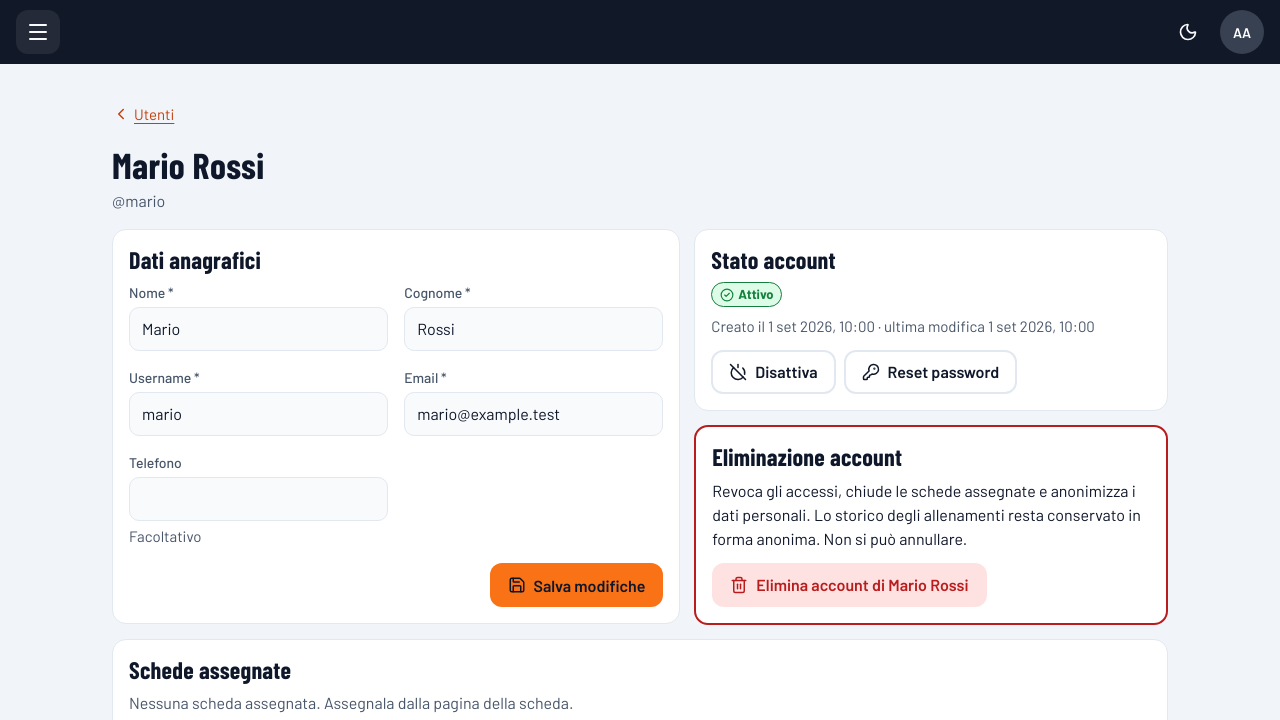
it: user detail › asks confirmation before deactivating and shows the new state
This screenshot has width=1280, height=720.
Click the button "Disattiva".
click(774, 372)  # box [711,350,836,394]
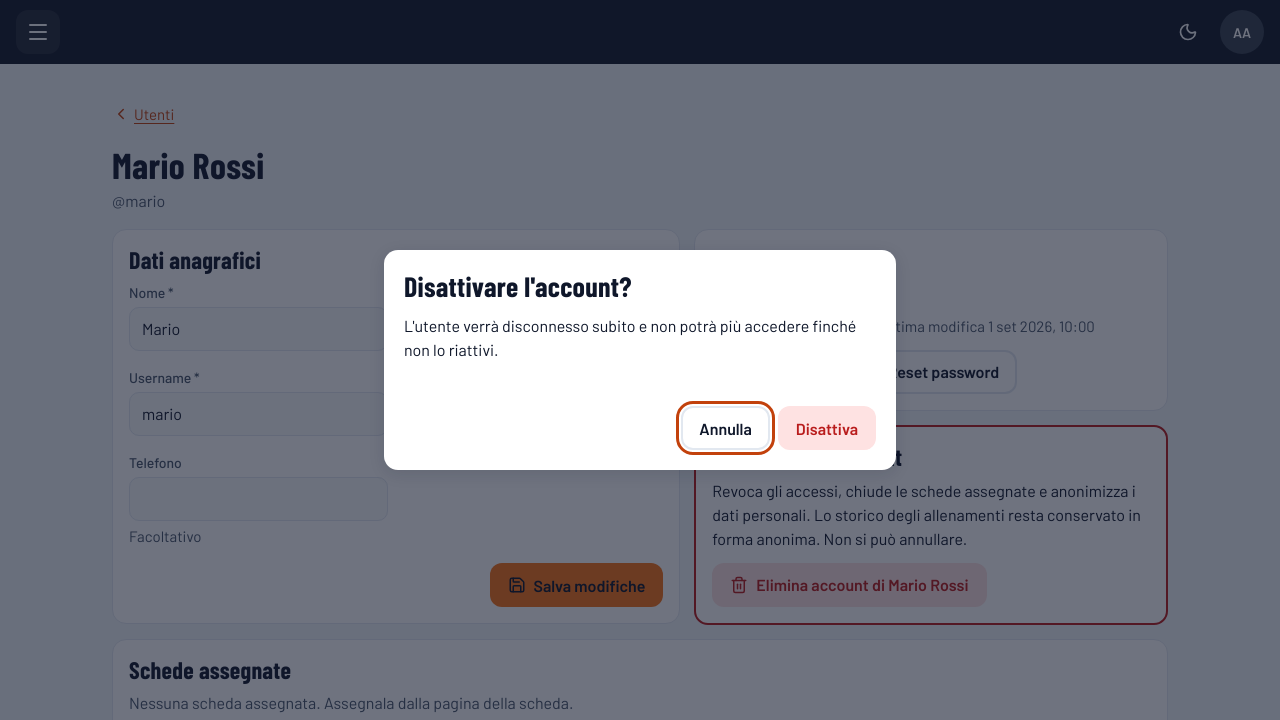
Click the button "Disattiva".
click(827, 428)  # box [778,406,876,450]
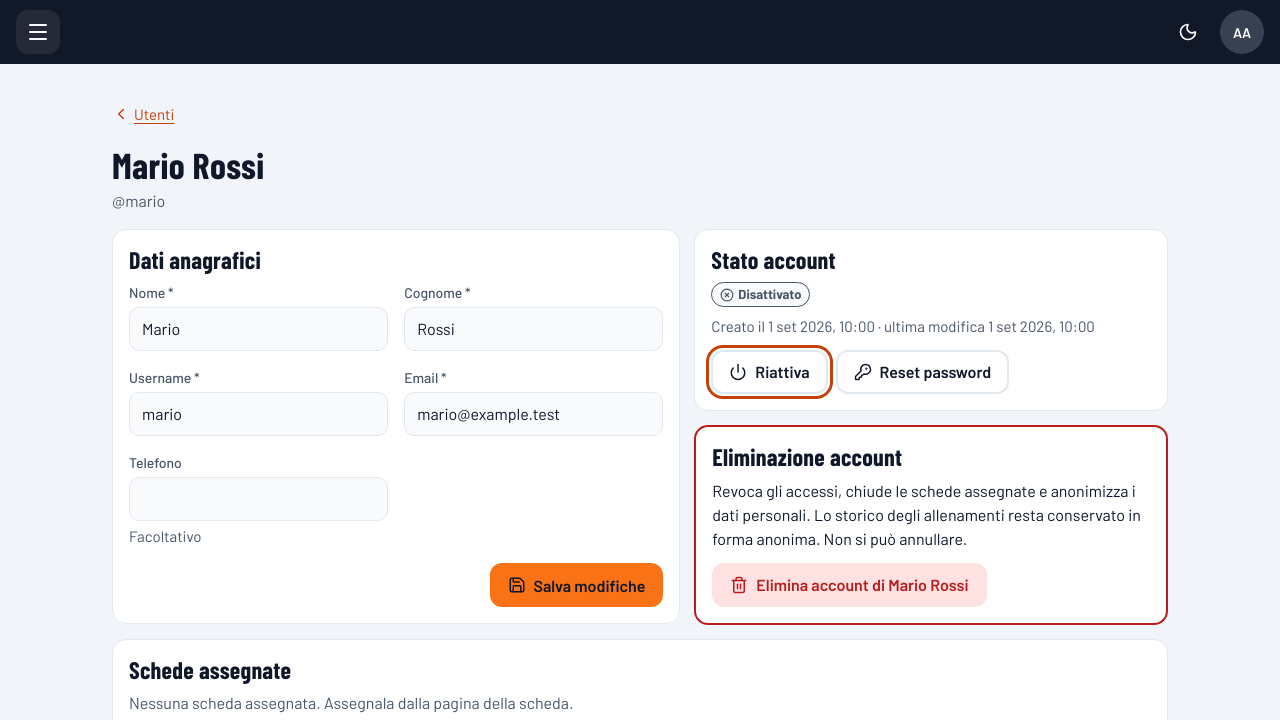
Check: the button "Riattiva" is shown, box [711,350,828,394]
